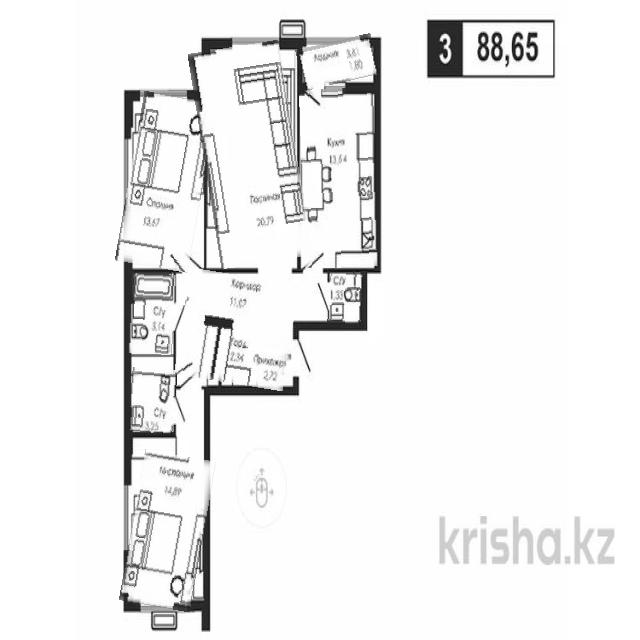balcony: (297, 37, 378, 87)
bathroom: (129, 273, 175, 355), (129, 368, 176, 434), (328, 272, 363, 323)
hallway: (178, 272, 295, 388)
kitchen: (301, 88, 377, 267)
living_room: (196, 44, 304, 266), (122, 94, 210, 270), (126, 452, 210, 610)
